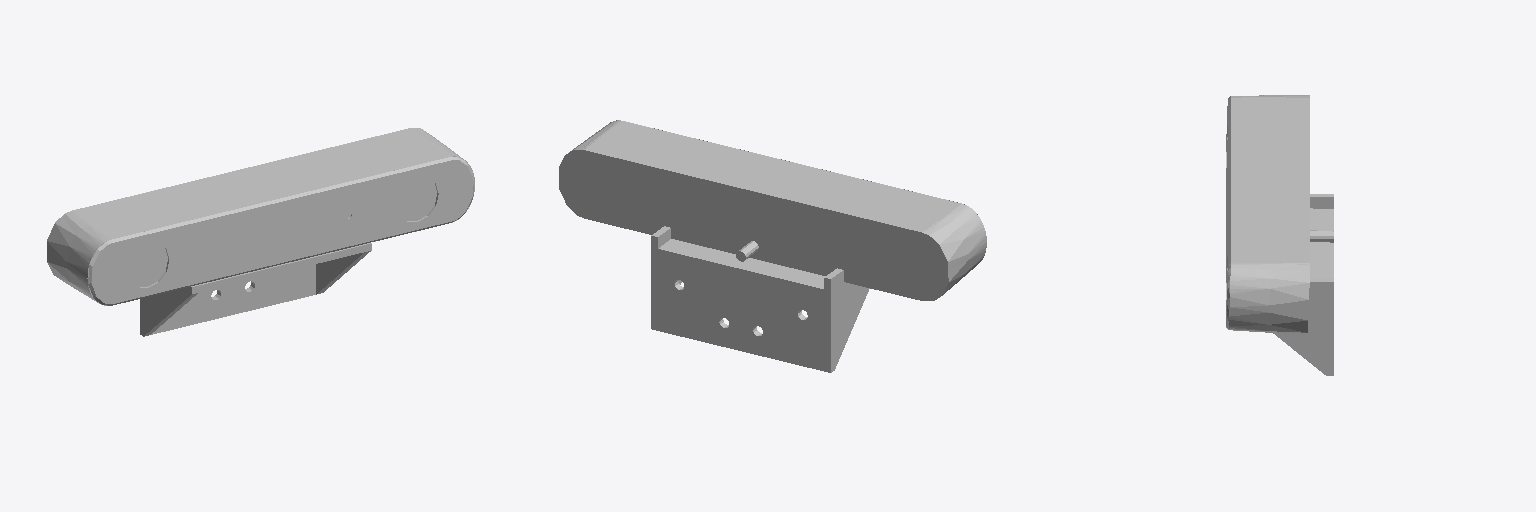
The model's file is zed.obj.
3 renders of one model, left to right at view 1: azimuth 30°, elevation 25°; view 2: azimuth 150°, elevation 25°; view 3: azimuth 270°, elevation 25°, orthographic.
Parts seen in each view (by area): view 1: mesh2, mesh17, mesh62, mesh16, mesh14, mesh12, mesh42, mesh53, mesh4, mesh46; view 2: mesh58, mesh61, mesh17, mesh16, mesh54, mesh53; view 3: mesh17, mesh18, mesh49, mesh54.
Part boxes in pixels (left/top/right/bottom): mesh2: left=91, top=160, right=473, bottom=303; mesh17: left=72, top=128, right=448, bottom=239; mesh62: left=151, top=264, right=315, bottom=334; mesh16: left=47, top=211, right=110, bottom=302; mesh14: left=127, top=242, right=167, bottom=286; mesh12: left=396, top=177, right=436, bottom=220; mesh42: left=192, top=244, right=371, bottom=293; mesh53: left=140, top=287, right=191, bottom=336; mesh4: left=112, top=157, right=450, bottom=242; mesh46: left=316, top=252, right=364, bottom=294; mesh58: left=559, top=150, right=948, bottom=300; mesh61: left=651, top=236, right=830, bottom=372; mesh17: left=584, top=121, right=961, bottom=231; mesh16: left=922, top=204, right=986, bottom=294; mesh54: left=659, top=239, right=825, bottom=288; mesh53: left=831, top=270, right=869, bottom=372; mesh17: left=1231, top=98, right=1309, bottom=262; mesh18: left=1229, top=263, right=1309, bottom=334; mesh49: left=1273, top=282, right=1333, bottom=375; mesh54: left=1310, top=208, right=1333, bottom=277.
Bounding box in the file's own units: 0.1738 × 0.0645 × 0.0418.